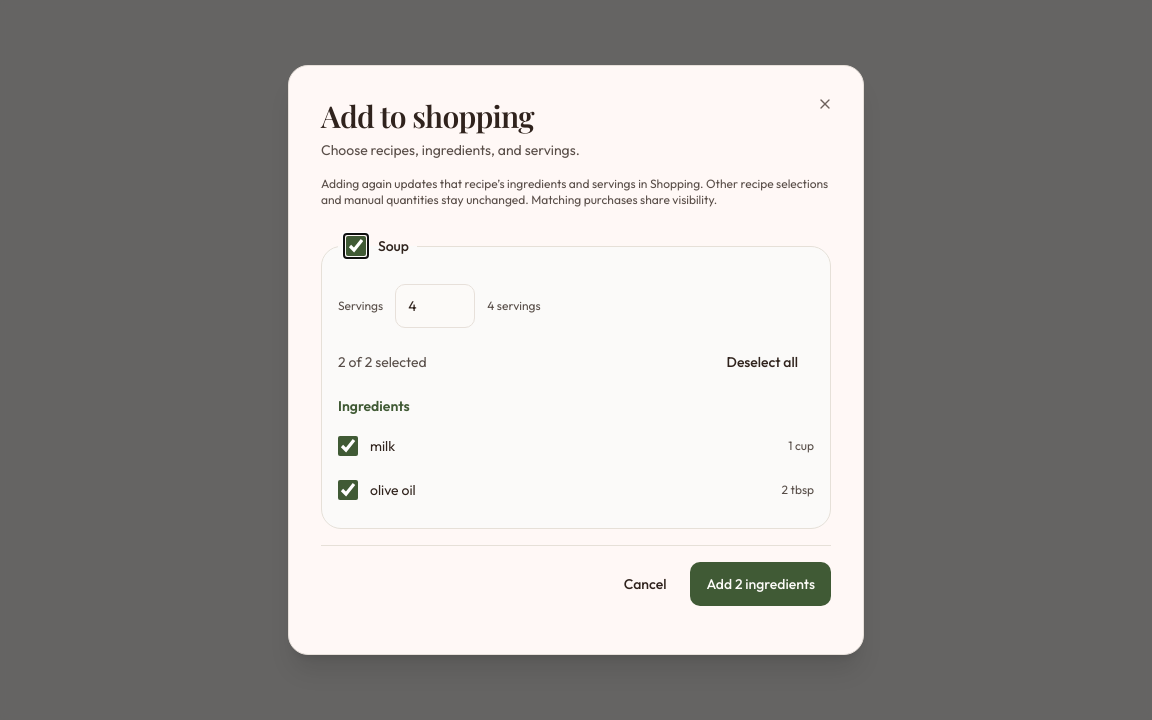
Test: Shopping selection dialog › requires ingredients and a valid whole-number yield
This screenshot has width=1152, height=720.
Click the checkbox named "Soup: milk, ingredient 1" at coordinates (348, 446), box [338,436,358,456]
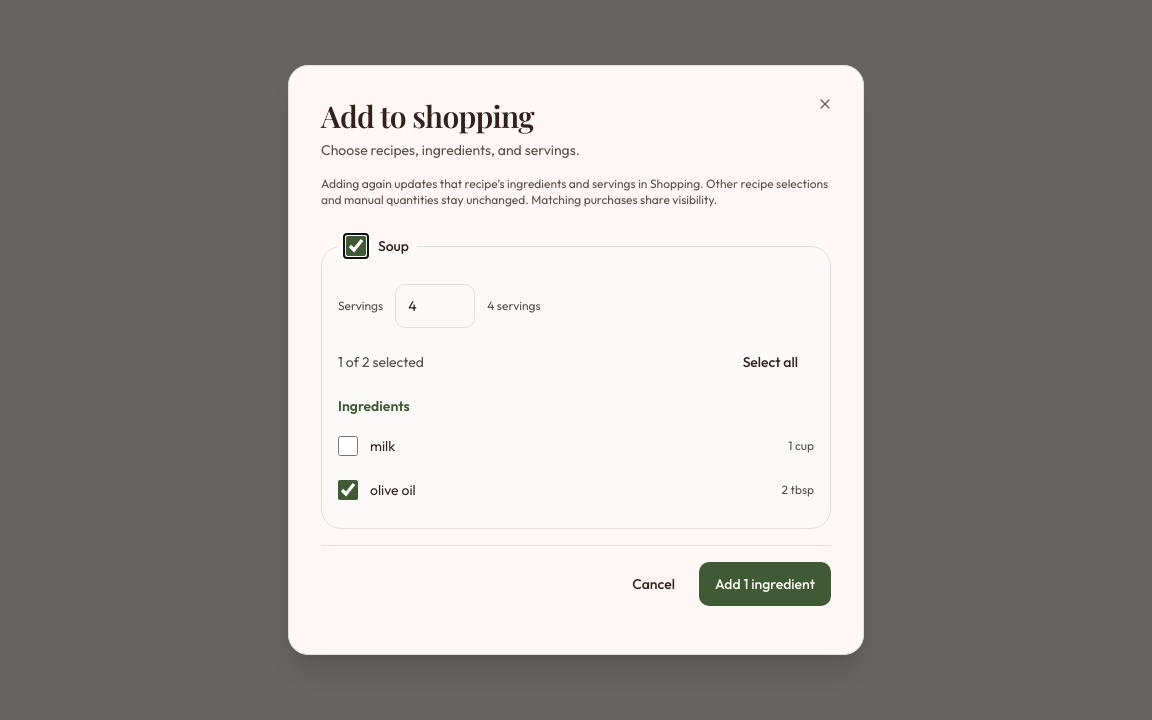
Click the checkbox named "Soup: olive oil, ingredient 2" at coordinates (348, 490), box [338,480,358,500]
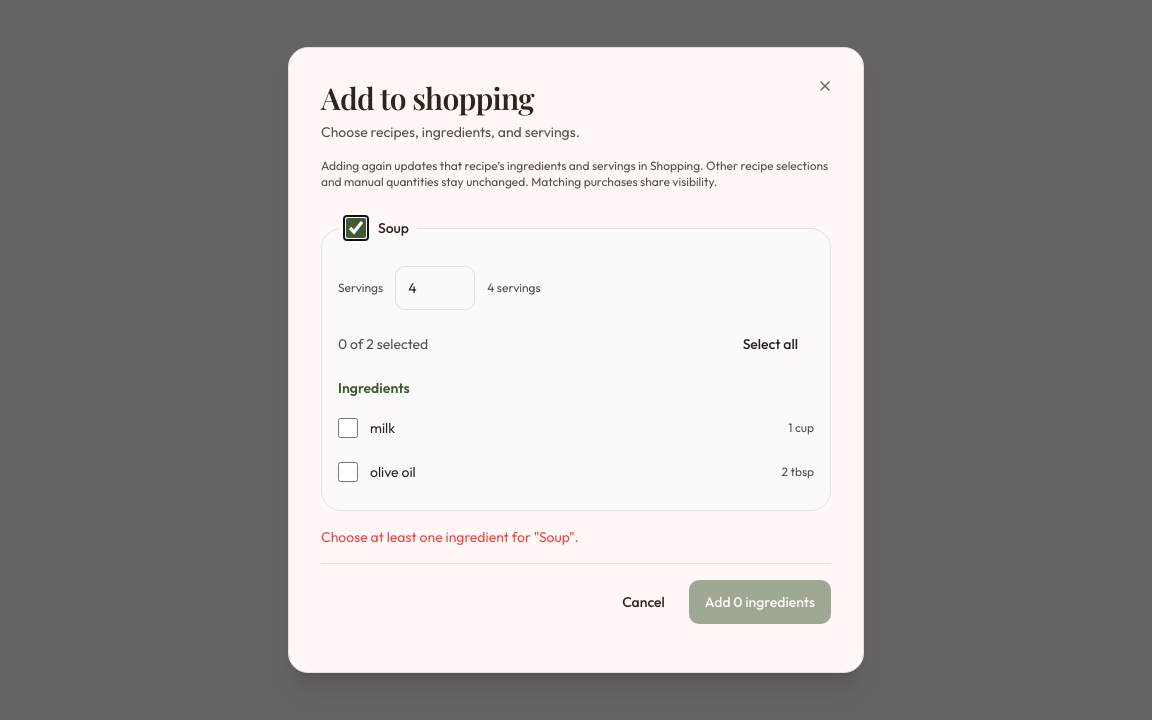
Expected: the button "Add 0 ingredients" is disabled, [689,580,831,624]
Click the checkbox named "Soup: milk, ingredient 1" at coordinates (348, 428), box [338,418,358,438]
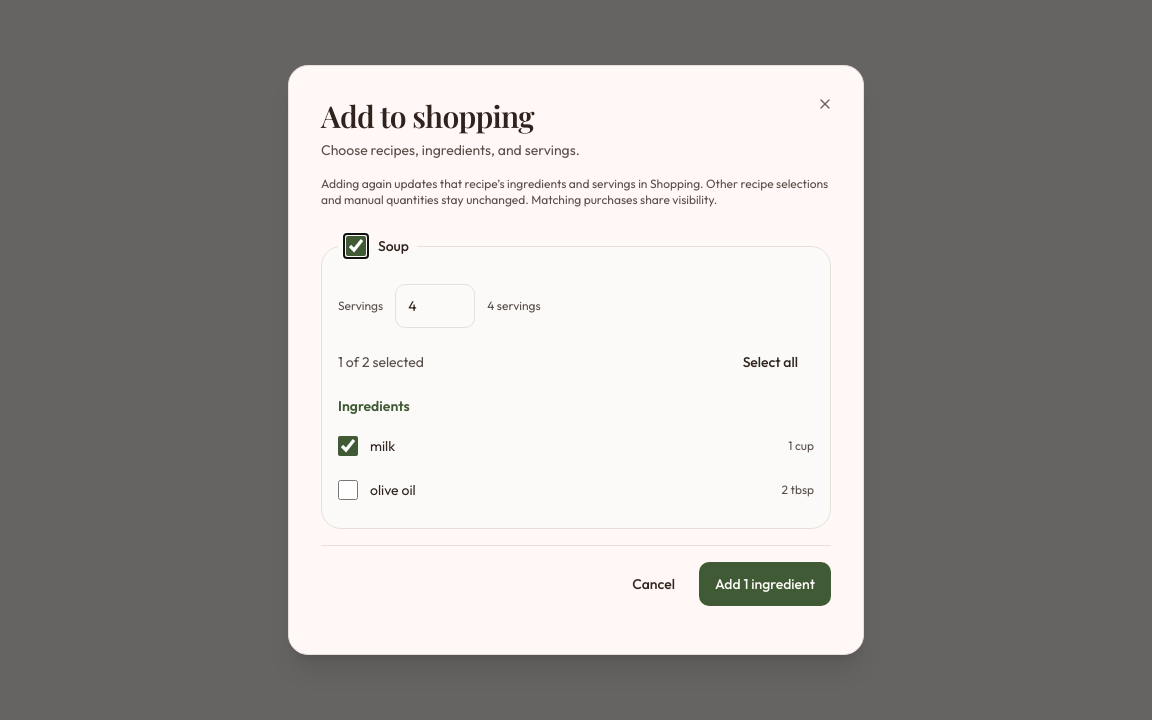
Replace the text in the number field named "Selected yield for Soup" with "1.5" at coordinates (435, 306), box [395,284,475,328]
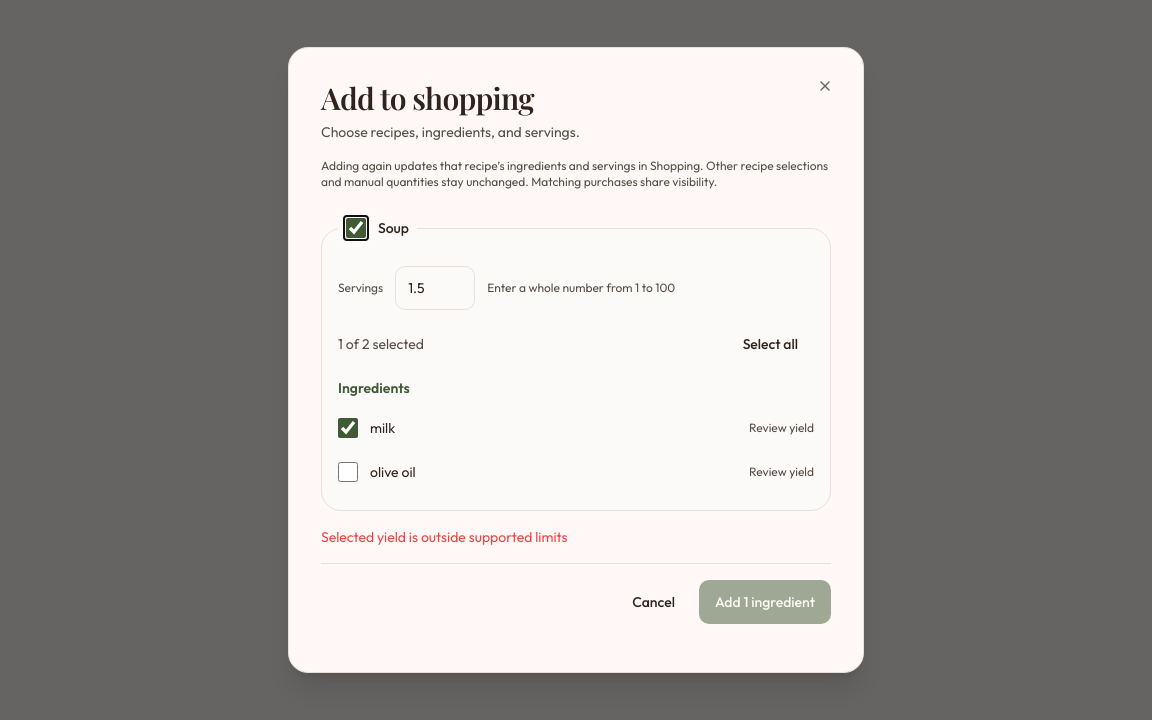
Expected: the button "Add 1 ingredient" is disabled, [699,580,831,624]
